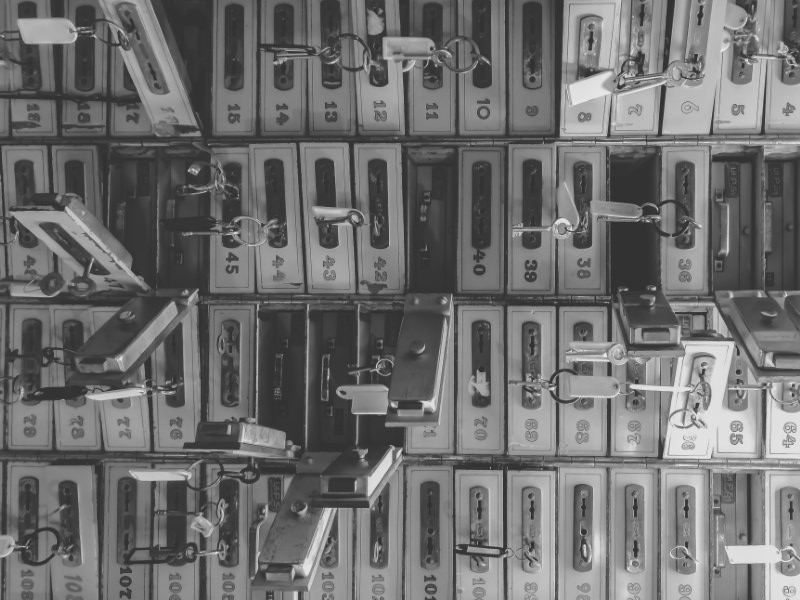key: (501, 214, 581, 244), (312, 208, 366, 234)
